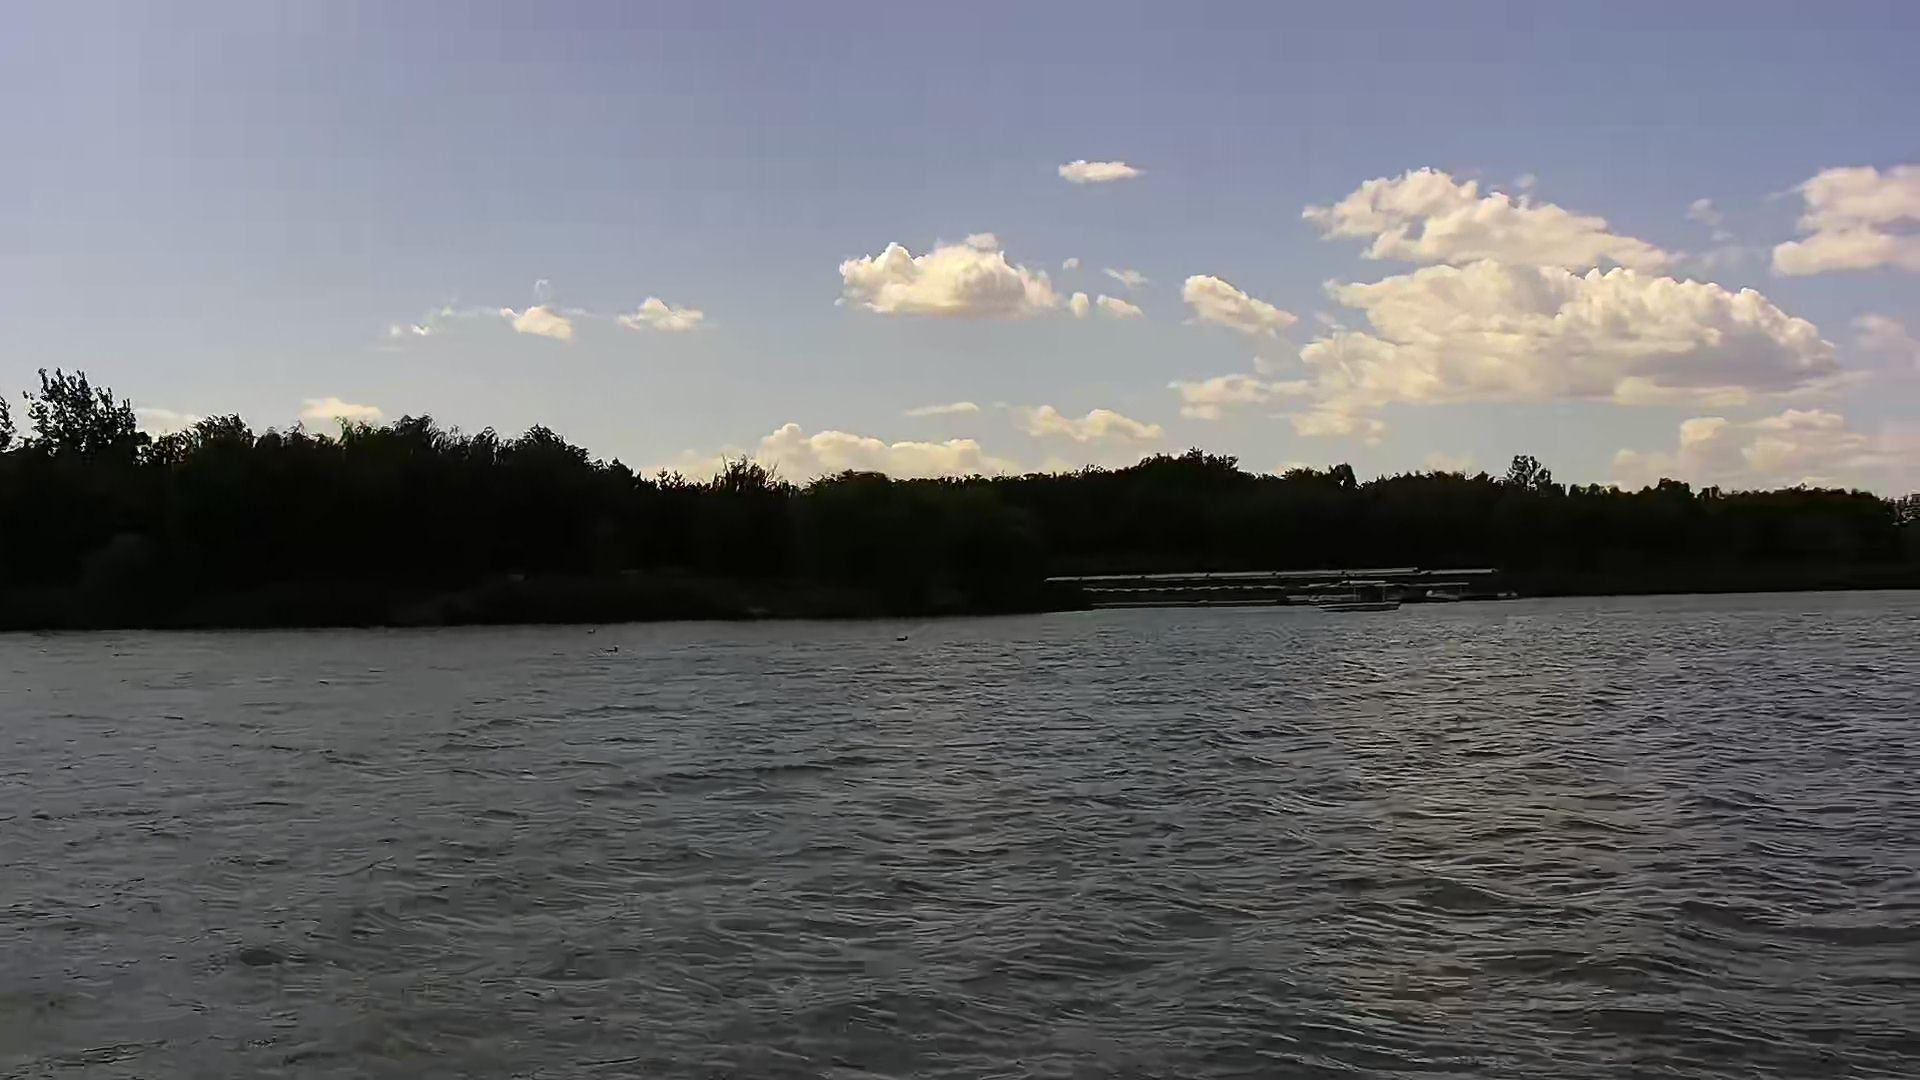boat: (1315, 578, 1410, 618)
harbor: (1039, 566, 1509, 603)
